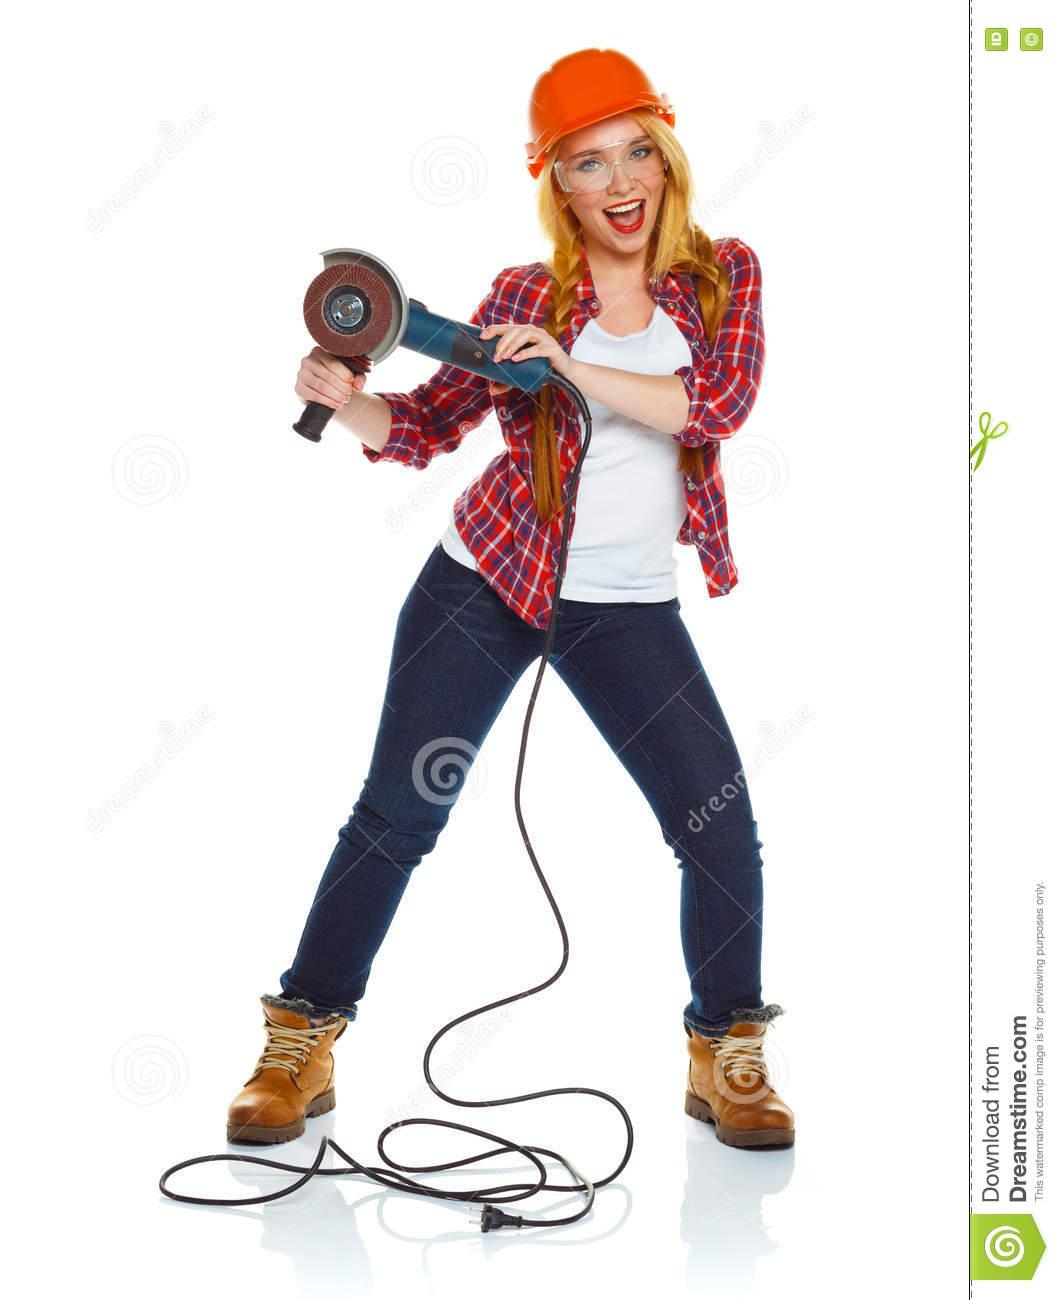helmet: (527, 45, 679, 173)
